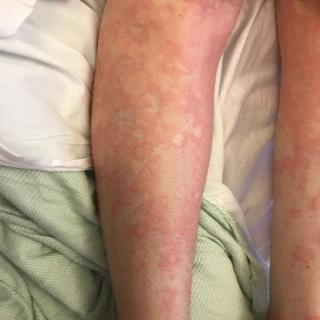urticaria: (101, 83, 162, 143), (105, 159, 154, 216), (116, 232, 158, 288), (115, 13, 155, 69), (278, 151, 320, 181), (289, 237, 320, 273), (288, 203, 309, 226)
